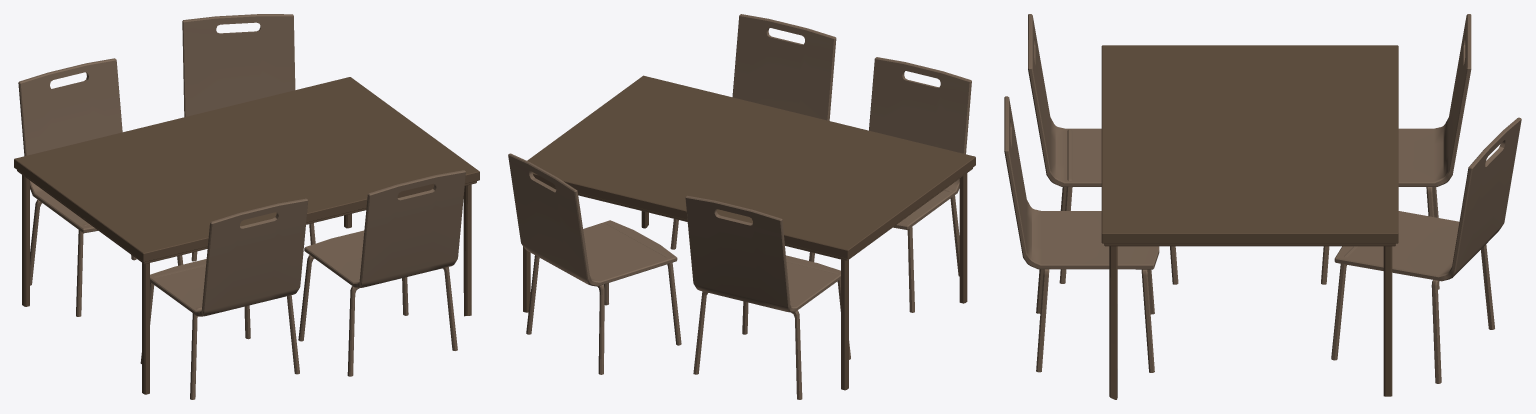
Rendered from tabule.fbx.
The picture shows the model from 3 angles, left to right: view 1: azimuth 30°, elevation 25°; view 2: azimuth 150°, elevation 25°; view 3: azimuth 270°, elevation 25°; orthographic projection. The views are drawn at different scales.
Parts seen in each view (by area): view 1: pCube17_map_29_7; view 2: pCube17_map_29_7; view 3: pCube17_map_29_7.
Boxes of the visible parts, box(x1,y1,x2,y2) form: pCube17_map_29_7: box(14, 14, 479, 399); pCube17_map_29_7: box(508, 14, 975, 399); pCube17_map_29_7: box(1004, 14, 1521, 399).
Bounding box in the file's own units: 13.2 × 7.31 × 15.34.
Materials: 1 (1 with a texture image).
